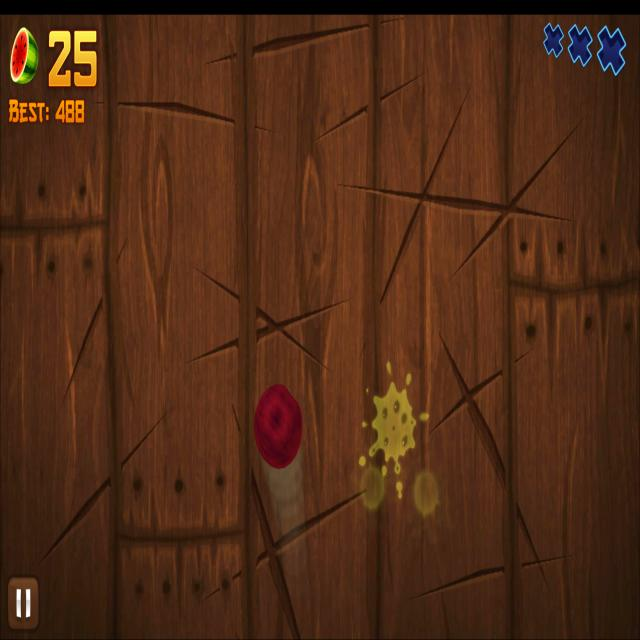fruit: (254, 382, 304, 470)
